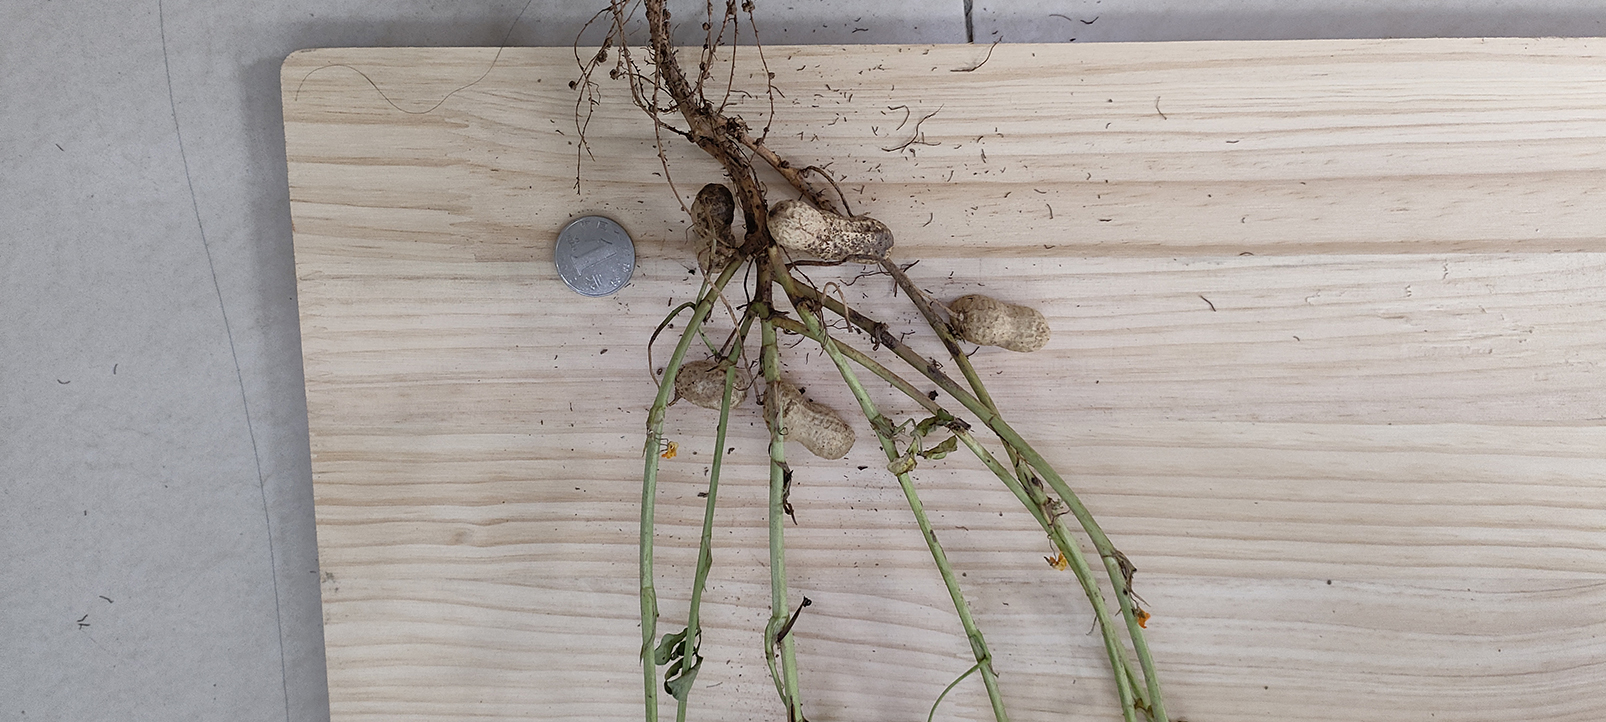h: (767, 199, 897, 261), (764, 382, 855, 460), (950, 295, 1051, 354)
l: (691, 182, 735, 271), (676, 363, 746, 409)
